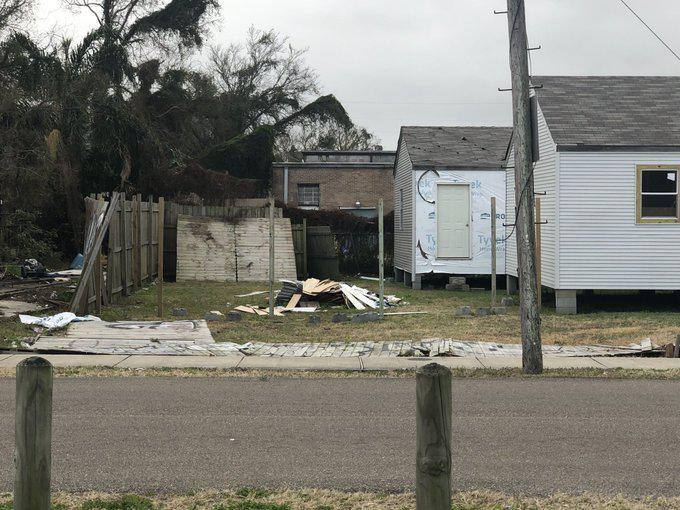affected: (489, 63, 680, 352)
minor: (388, 116, 512, 292)
